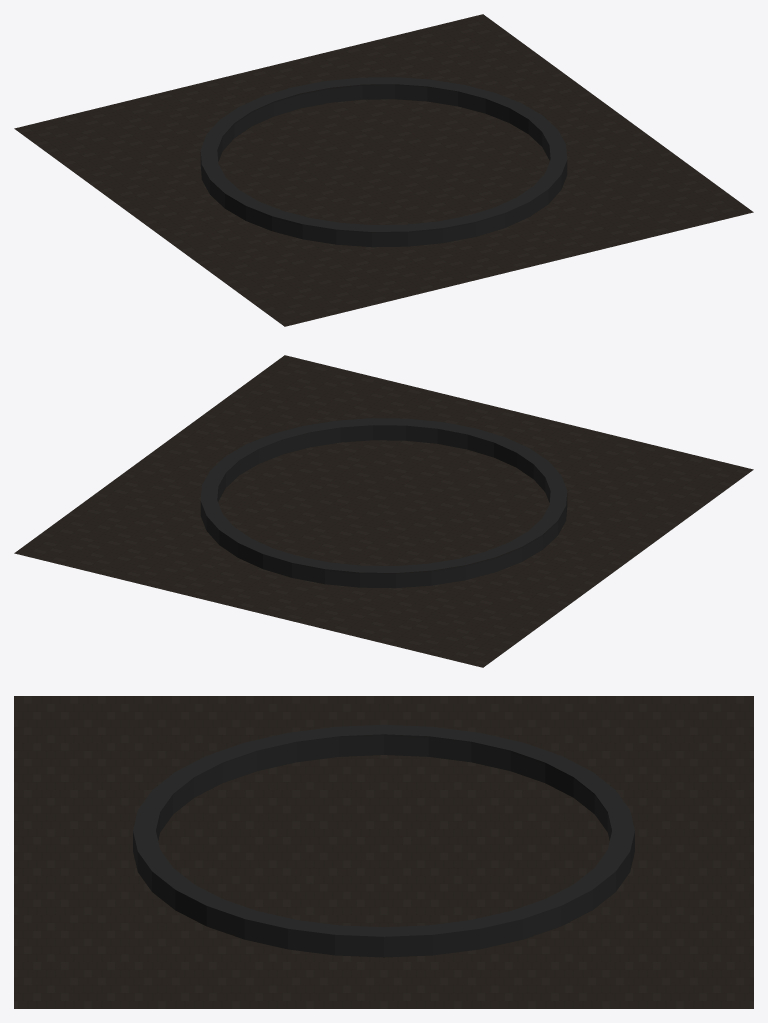
Rendered from field.obj.
3 renders of one model, top to bottom at view 1: azimuth 30°, elevation 25°; view 2: azimuth 150°, elevation 25°; view 3: azimuth 270°, elevation 25°, orthographic. The views are drawn at different scales.
Visible parts, largest first — view 1: 平面, 円柱.001; view 2: 平面, 円柱.001; view 3: 平面, 円柱.001.
Boxes of the visible parts, left/top/right/bottom form: 平面: left=14, top=14, right=753, bottom=326; 円柱.001: left=200, top=77, right=567, bottom=247; 平面: left=14, top=355, right=753, bottom=667; 円柱.001: left=200, top=418, right=567, bottom=588; 平面: left=14, top=696, right=753, bottom=1008; 円柱.001: left=133, top=724, right=634, bottom=957.
Size of what is drawn, in the model's own units: 32.43 by 1.05 by 32.43.
2 materials, 2 textured.
